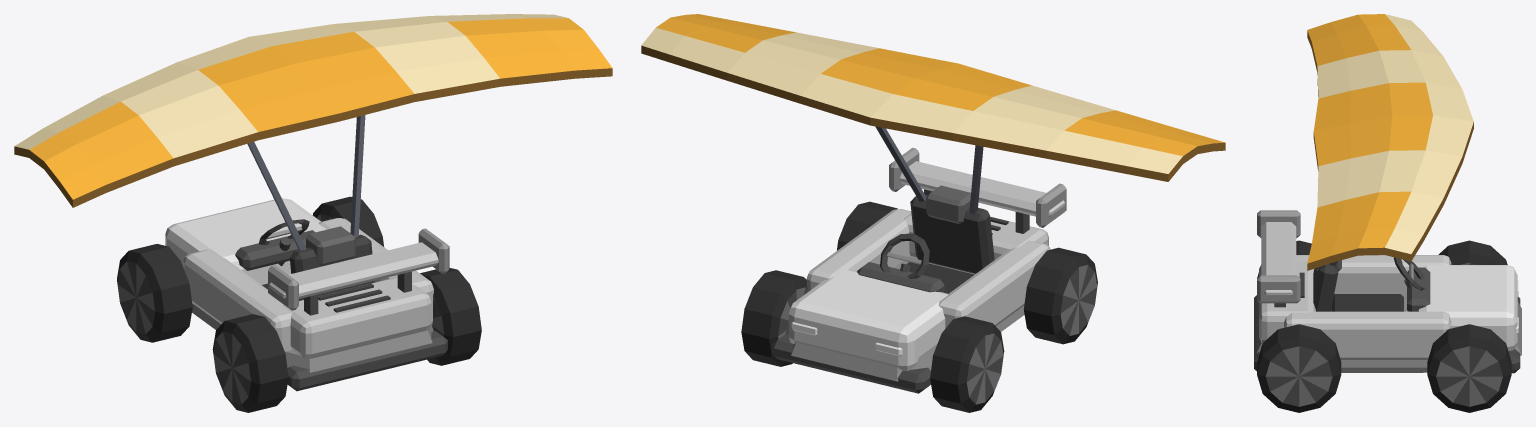
Rendered from kart_01.glb.
The picture shows the model from 3 angles, left to right: view 1: azimuth 30°, elevation 25°; view 2: azimuth 150°, elevation 25°; view 3: azimuth 270°, elevation 25°; orthographic projection. The views are drawn at different scales.
Visible parts, largest first — view 1: kart_glider_01, kart_chassis_01, kart_spoiler_01, kart_wheel_01_rl, kart_wheel_01, kart_wheel_01_rr, kart_wheel_01_fr; view 2: kart_glider_01, kart_chassis_01, kart_wheel_01_rl, kart_wheel_01, kart_spoiler_01, kart_wheel_01_fr, kart_wheel_01_rr; view 3: kart_glider_01, kart_chassis_01, kart_wheel_01_rr, kart_wheel_01_fr, kart_spoiler_01, kart_wheel_01.
Boxes of the visible parts, x1,y1,x2,y2 form: kart_glider_01: (14, 14, 612, 265); kart_chassis_01: (165, 198, 447, 391); kart_spoiler_01: (268, 228, 449, 315); kart_wheel_01_rl: (212, 314, 288, 412); kart_wheel_01: (117, 244, 192, 342); kart_wheel_01_rr: (420, 268, 481, 365); kart_wheel_01_fr: (312, 196, 383, 246); kart_glider_01: (641, 14, 1225, 223); kart_chassis_01: (771, 195, 1050, 393); kart_wheel_01_rl: (1023, 247, 1097, 344); kart_wheel_01: (930, 316, 1004, 412); kart_spoiler_01: (889, 147, 1066, 233); kart_wheel_01_fr: (741, 270, 807, 366); kart_wheel_01_rr: (837, 201, 897, 250); kart_glider_01: (1307, 14, 1473, 271); kart_chassis_01: (1254, 255, 1521, 373); kart_wheel_01_rr: (1257, 324, 1341, 412); kart_wheel_01_fr: (1427, 324, 1511, 412); kart_spoiler_01: (1257, 210, 1300, 307); kart_wheel_01: (1438, 240, 1507, 265).
Size of the model in its own units: 3.8 by 1.89 by 1.84.
